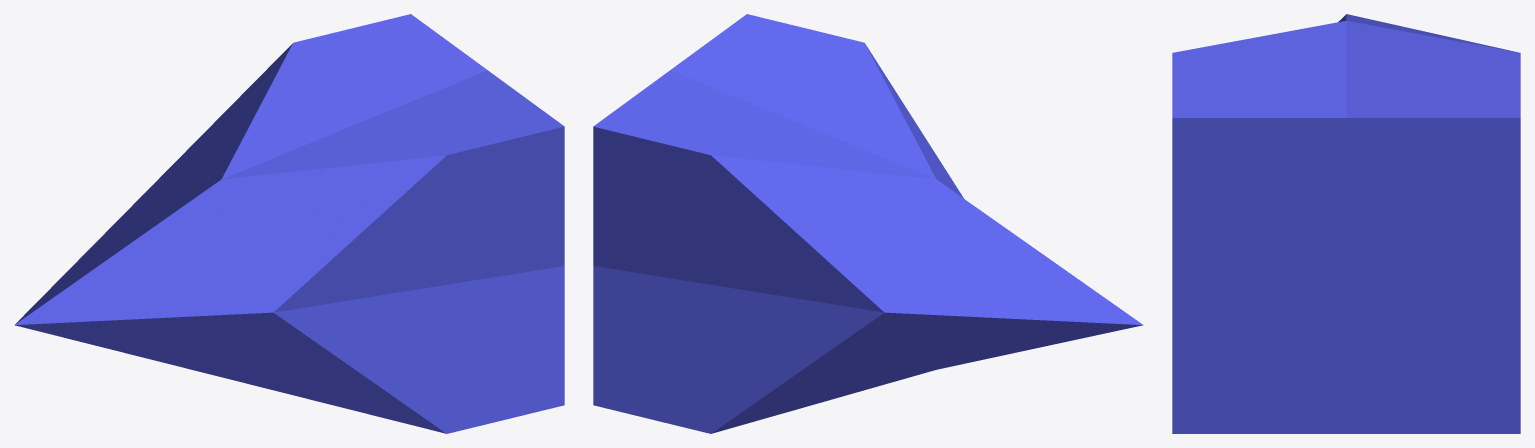
Rendered from Player.gltf.
3 renders of one model, left to right at view 1: azimuth 30°, elevation 25°; view 2: azimuth 150°, elevation 25°; view 3: azimuth 270°, elevation 25°, orthographic. The views are drawn at different scales.
Visible parts, largest first — view 1: Cube; view 2: Cube; view 3: Cube.
Boxes of the visible parts, box(x1,y1,x2,y2) form: Cube: box(14, 14, 564, 433); Cube: box(593, 14, 1143, 433); Cube: box(1172, 14, 1520, 433).
Size of the model in its own units: 3.56 by 2 by 2.
Materials: 1 (1 with a texture image).
